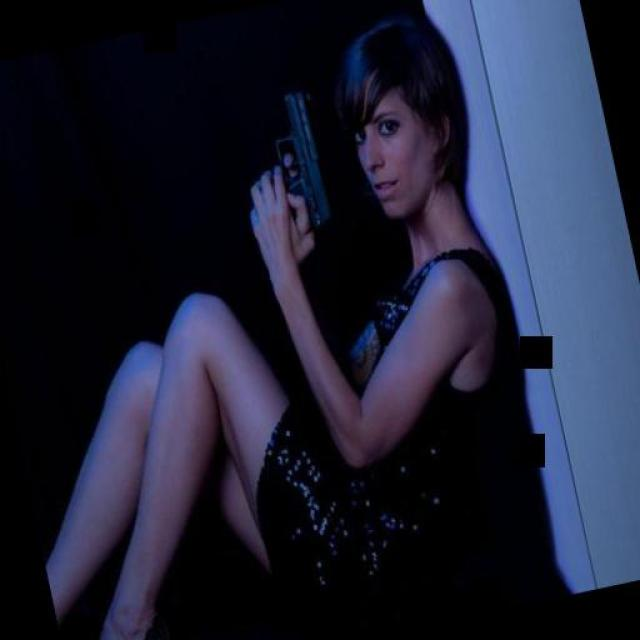gun: (238, 70, 348, 252)
